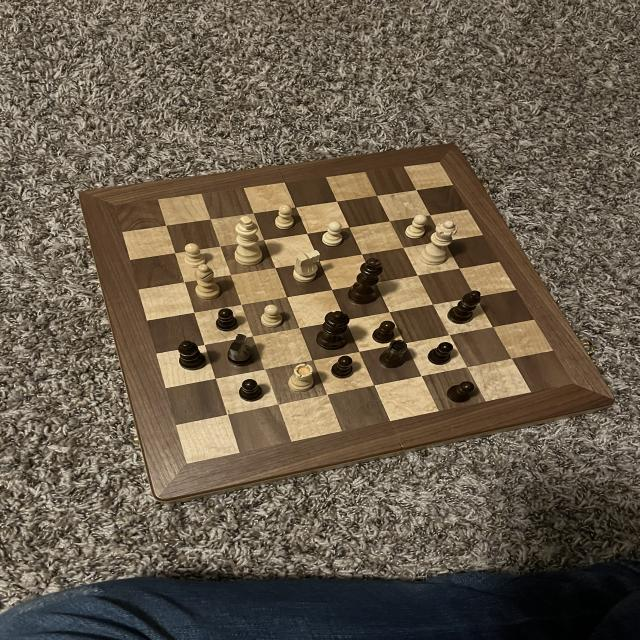bishop: (442, 288, 486, 328), (177, 340, 209, 372)
black-bishop: (345, 258, 385, 306)
black-king: (224, 332, 258, 368)
black-knight: (426, 340, 458, 369), (368, 318, 400, 346), (443, 379, 477, 405), (234, 378, 268, 404), (328, 356, 360, 381), (216, 306, 240, 332)
black-pawn: (312, 308, 354, 354)
black-queen: (376, 339, 410, 370)
black-rook: (192, 262, 222, 302)
white-bishop: (230, 214, 268, 269)
white-king: (290, 247, 322, 286)
white-knight: (258, 302, 286, 331), (402, 212, 431, 239), (274, 202, 299, 232), (320, 220, 346, 247), (182, 242, 208, 268)
white-pawn: (418, 219, 458, 268)
white-queen: (284, 361, 319, 393)
